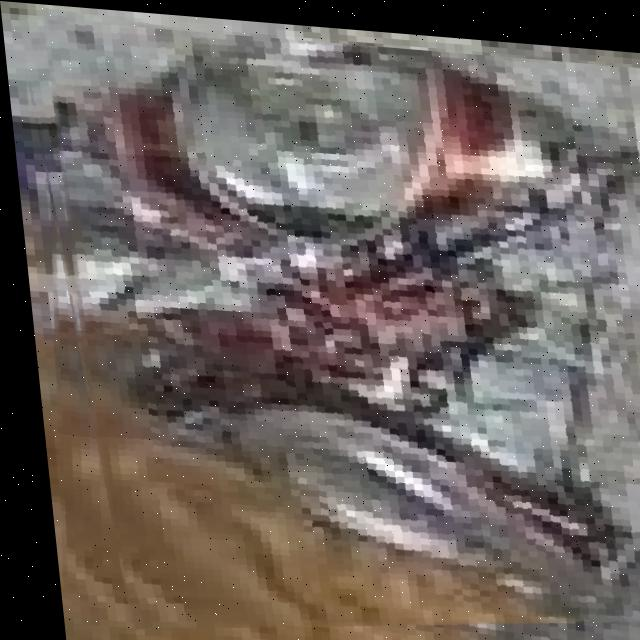can: (75, 20, 640, 621)
